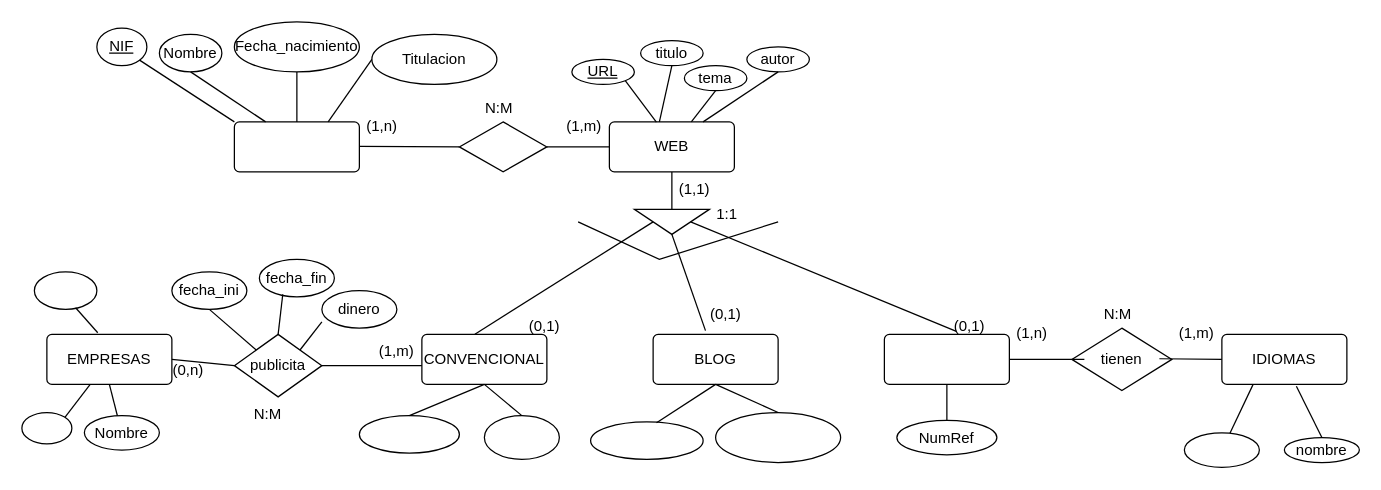
Some shapes in this 1381 by 490 pixel diagram are drawn without their labels. Here are the shapes that lost their labels. From the top down, the centre of each, then its label:
At (296,146): "USUARIOS".
At (502,146): "crean".
At (65,290): "Actividad".
At (946,358): "WIKI".
At (46,427): "CIF".
At (408,433): "Num_visitas".
At (521,436): "Marcos".
At (646,440): "NumEntradas".
At (777,436): "NumEtiquetas".
At (1221,449): "codigo".
